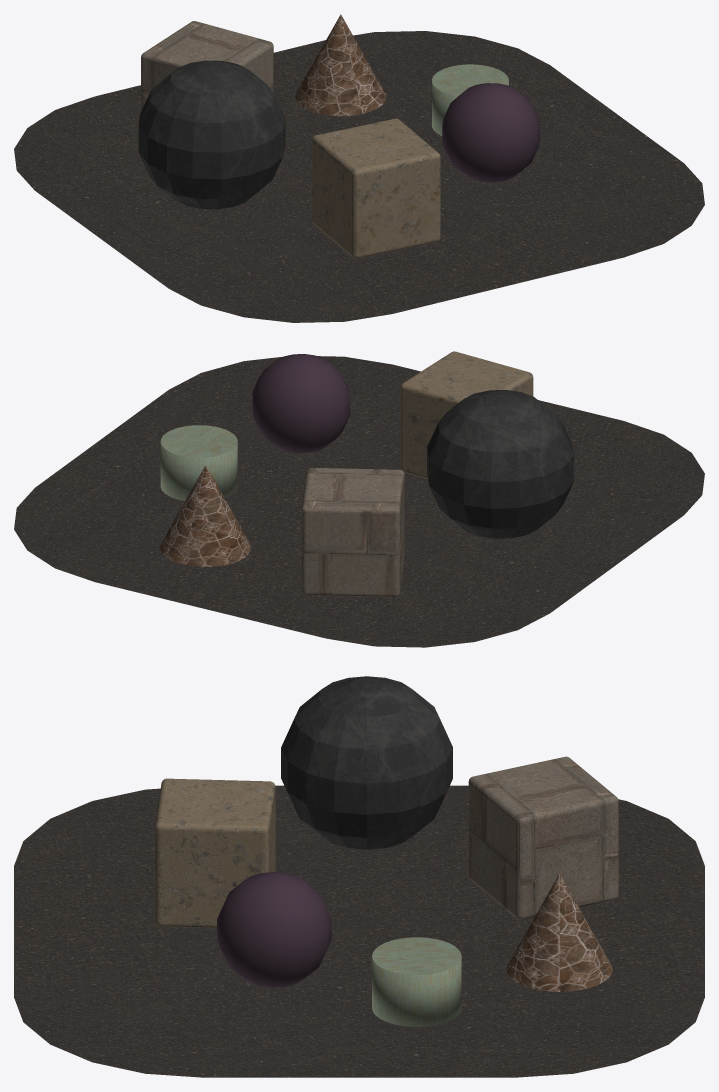
Rendered from normal_rog_test.gltf.
3 views of the same model, one above another, from view 1: azimuth 30°, elevation 25°; view 2: azimuth 150°, elevation 25°; view 3: azimuth 270°, elevation 25° (orthographic). The views are drawn at different scales.
Parts seen in each view (by area): view 1: Plane, Sphere.001, Dirt, Sphere, Cone, Cube, Cylinder; view 2: Plane, Sphere.001, Cube, Sphere, Dirt, Cone, Cylinder; view 3: Plane, Sphere.001, Cube, Dirt, Sphere, Cylinder, Cone.
Part boxes in pixels (box(x1,y1,x2,y2)): Plane: box(14, 31, 704, 322); Sphere.001: box(138, 60, 285, 209); Dirt: box(312, 118, 440, 258); Sphere: box(442, 83, 539, 182); Cone: box(295, 14, 386, 116); Cube: box(141, 21, 273, 111); Cylinder: box(432, 64, 508, 135); Plane: box(14, 356, 704, 647); Sphere.001: box(427, 390, 573, 538); Cube: box(301, 467, 404, 597); Sphere: box(252, 354, 350, 453); Dirt: box(400, 351, 533, 479); Cone: box(160, 465, 251, 566); Cylinder: box(160, 425, 237, 500); Plane: box(14, 785, 704, 1077); Sphere.001: box(281, 676, 452, 849); Cube: box(468, 756, 618, 919); Dirt: box(155, 778, 275, 928); Sphere: box(217, 872, 331, 987); Cylinder: box(372, 937, 461, 1026); Cone: box(506, 873, 612, 991).
Size of the model in its own units: 24.14 by 6.42 by 24.14.
